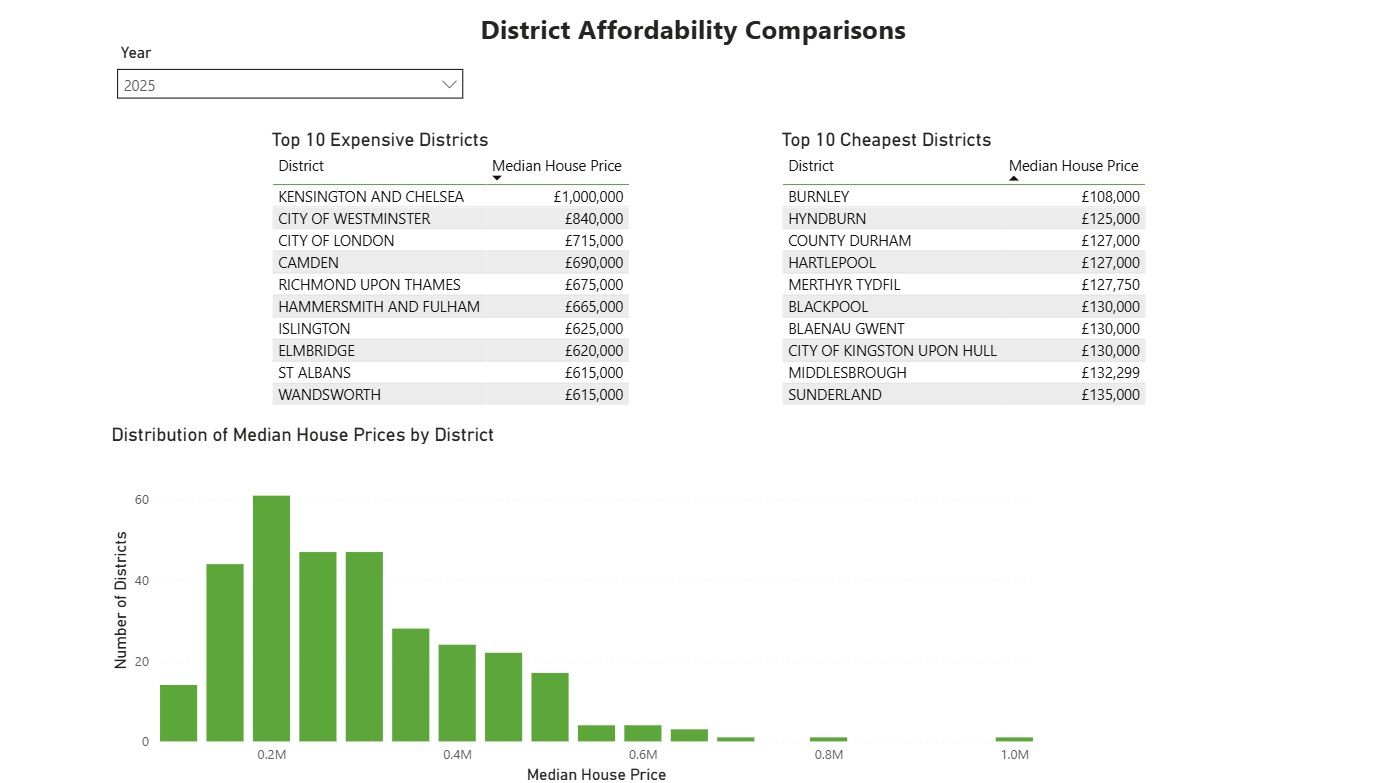

This screenshot's page, from the dashboard's own definition file:
{"tool":"powerbi","page":{"name":"Page 2","canvas":[1280,720],"ordinal":1},"visuals":[{"type":"tableEx","title":"Top 10 Expensive Districts","fields":{"Values":["house_data v_median_price_per_district_year.district","house_data v_median_price_per_district_year.median_price"]},"box":[248,121.7,376.4,266.9],"z":0},{"type":"clusteredColumnChart","title":"Distribution of Median House Prices by District","fields":{"Category":["house_data v_median_price_per_district_year.median_price (bins)"],"Y":["CountNonNull(house_data v_median_price_per_district_year.district)"]},"box":[102.8,388.7,845.5,331.7],"z":1000},{"type":"slicer","fields":{"Values":["house_data v_median_price_per_district_year.year"]},"box":[102.8,40.2,334,81.5],"z":2000},{"type":"tableEx","title":"Top 10 Cheapest Districts","fields":{"Values":["house_data v_median_price_per_district_year.district","house_data v_median_price_per_district_year.median_price"]},"box":[710.4,121.7,378.6,266.9],"z":3000},{"type":"textbox","box":[436.7,10.1,463.5,60.3],"z":4000}]}

Visuals, with their boxes in screenshot pixels (x1, y1, x2, y2), scaled from the page's 1280x720 canvas onto the 1374x783 screenshot:
"Top 10 Expensive Districts" tableEx: 266 132 670 423
"Distribution of Median House Prices by District" clusteredColumnChart: 110 423 1018 782
slicer - house_data v_median_price_per_district_year.year: 110 44 469 132
"Top 10 Cheapest Districts" tableEx: 763 132 1169 423
textbox: 469 11 966 77
